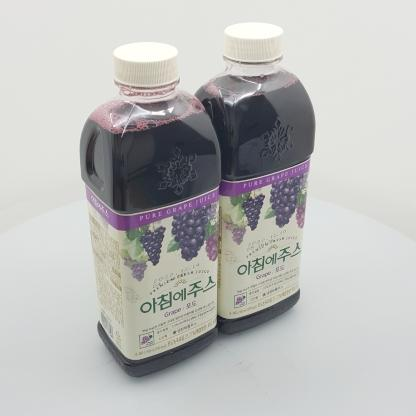------------950ML: (80, 42, 220, 378), (192, 22, 315, 334)
